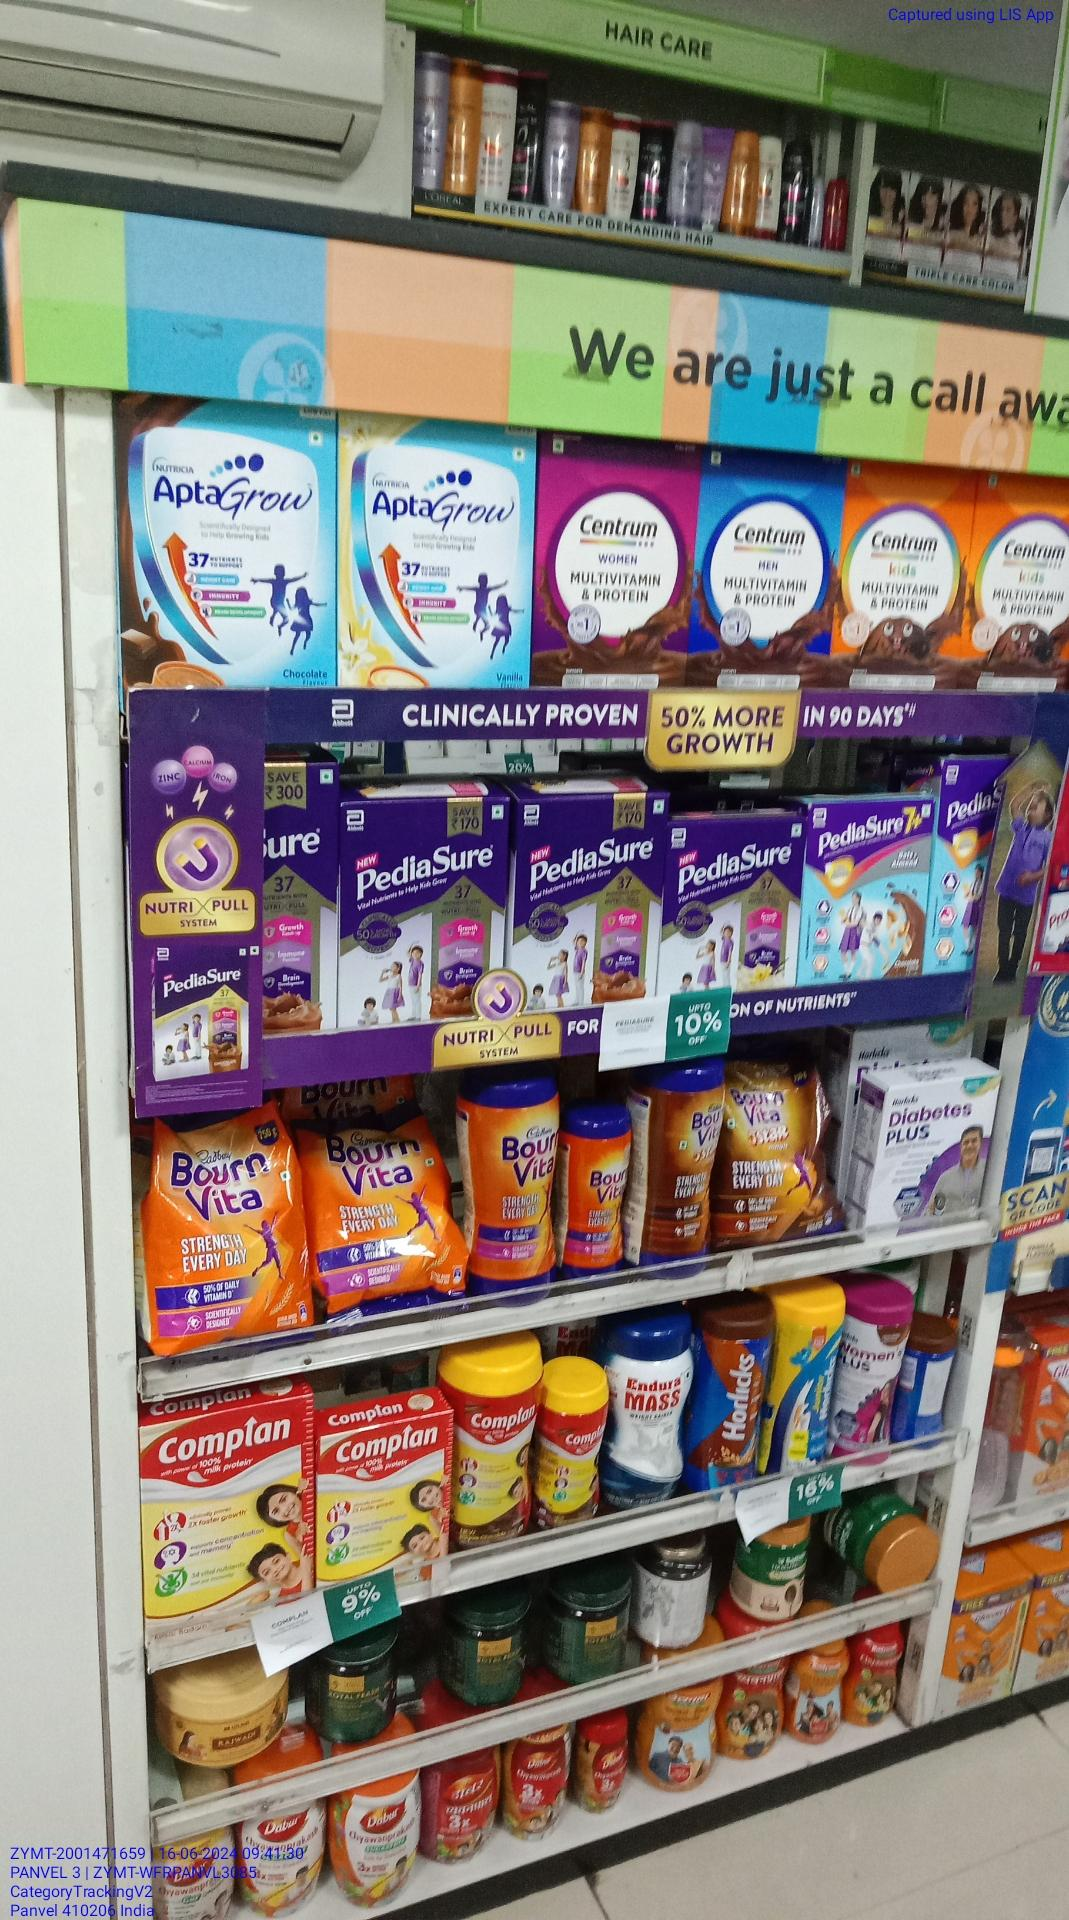COMPLAN_CHOCOLATE_200_GMS_JAR: (542, 1373, 607, 1527)
COMPLAN_CHOCOLATE_500_GMS_JAR: (459, 1341, 536, 1533)
COMPLAN_KESAR_BADAM_200_GMS_PACK: (315, 1421, 452, 1563)
